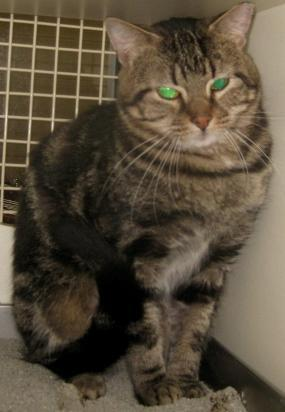bengal: (95, 1, 275, 163)
